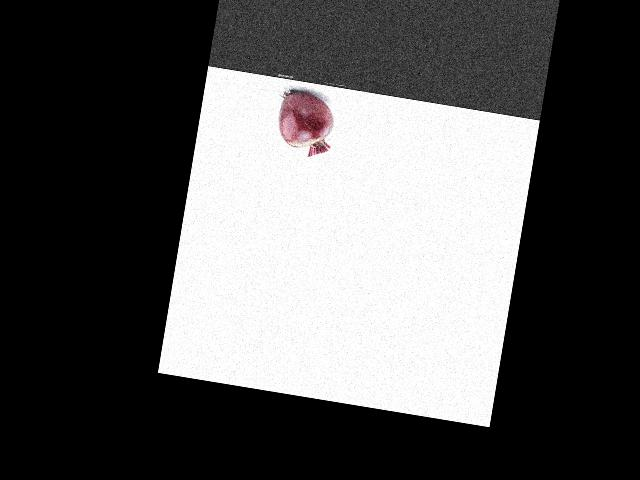beet: (273, 89, 338, 159)
